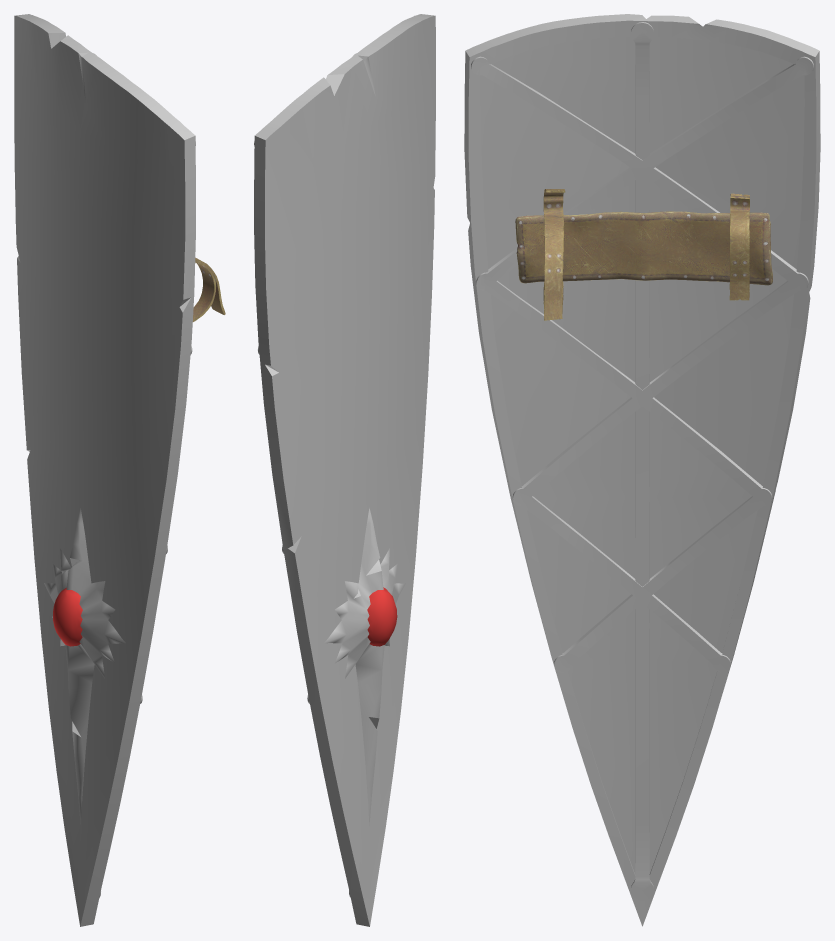
File: Kerillian_elf_shield_basic2_mesh_Eaglegate01_3p.fbx
The picture shows the model from 3 angles, left to right: view 1: azimuth 30°, elevation 25°; view 2: azimuth 150°, elevation 25°; view 3: azimuth 270°, elevation 25°; orthographic projection. The views are drawn at different scales.
Visible parts, largest first — view 1: Kerillian_shield; view 2: Kerillian_shield; view 3: Kerillian_shield.
Boxes of the visible parts, left/top/right/bottom form: Kerillian_shield: left=14, top=14, right=225, bottom=926; Kerillian_shield: left=254, top=14, right=435, bottom=926; Kerillian_shield: left=464, top=14, right=820, bottom=926.
Bounding box in the file's own units: 0.1967 × 1.34 × 0.4778.
